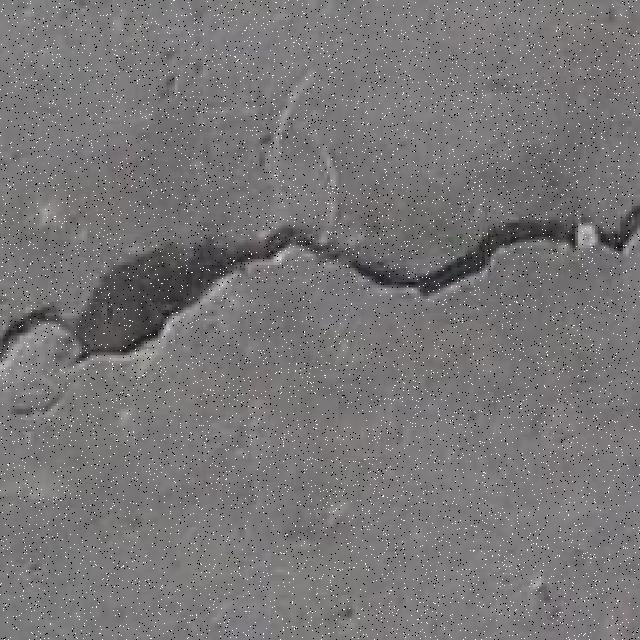crack: (0, 179, 631, 629), (0, 229, 362, 383), (323, 198, 639, 302), (288, 229, 428, 291), (211, 225, 325, 276), (2, 306, 77, 371)
